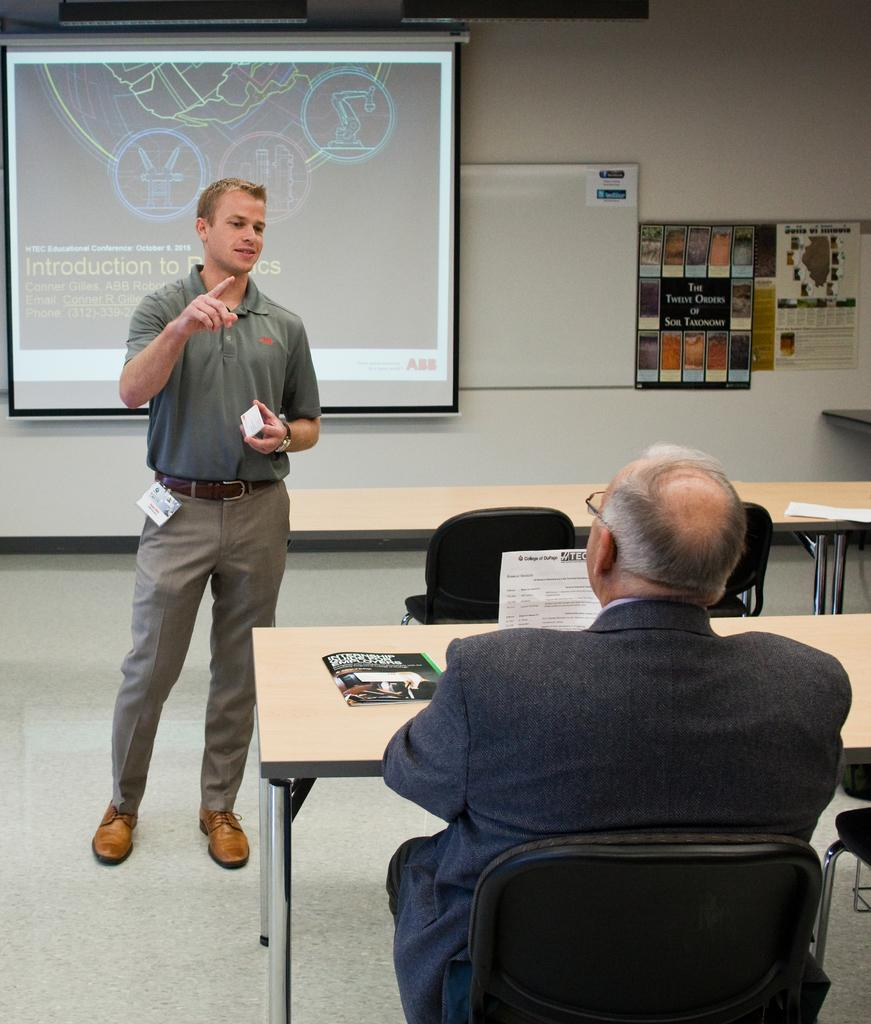Book: (321, 651, 442, 706)
Chair: (467, 830, 823, 1023), (402, 506, 576, 624), (705, 501, 773, 617)
Computer-monitor: (1, 31, 465, 421)
